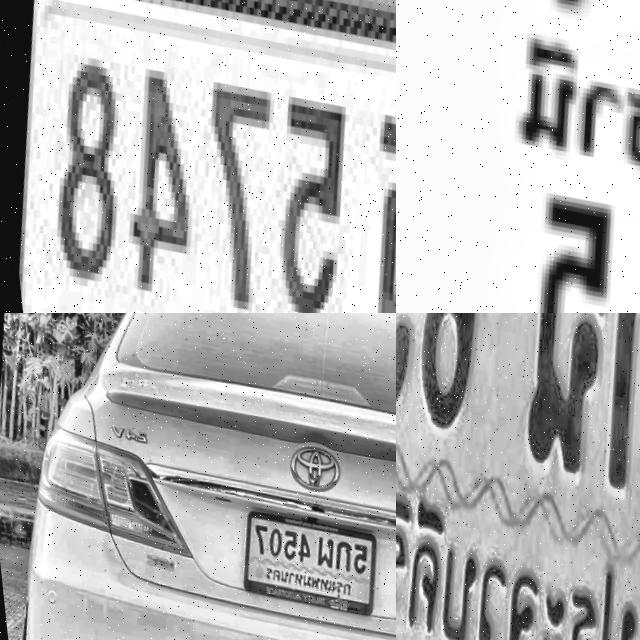license-plate: (0, 0, 396, 313), (396, 313, 640, 640), (396, 0, 640, 313), (223, 501, 378, 615)
